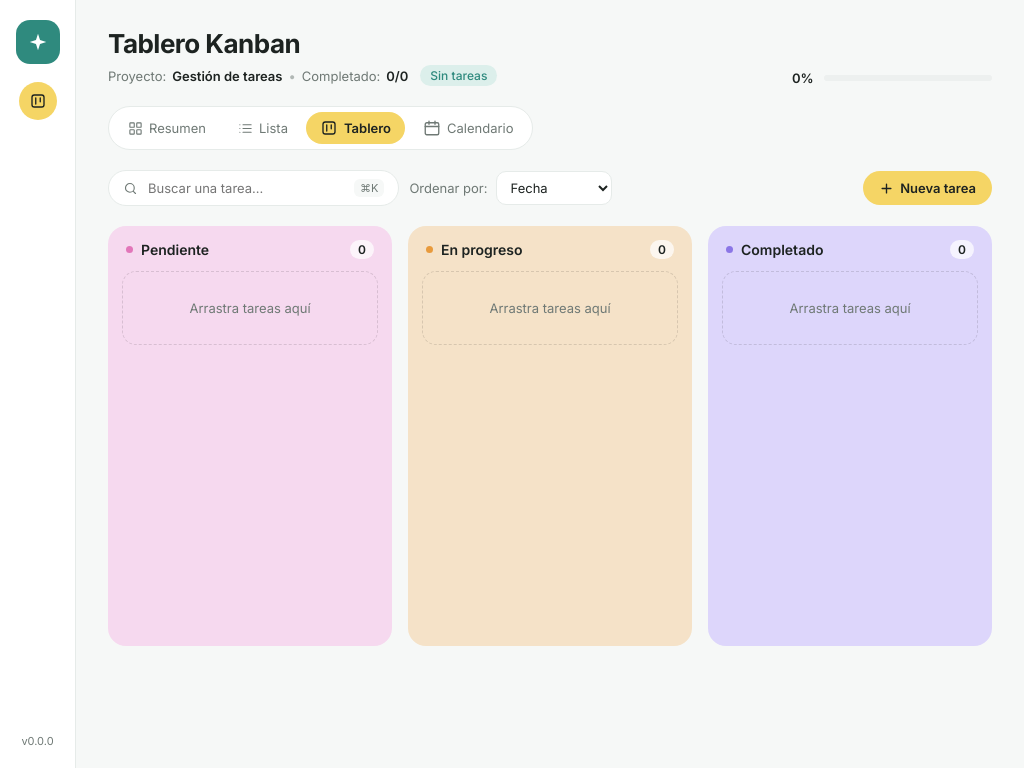
Test case: App Kanban › elimina una tarea
The image size is (1024, 768).
Click the button "Nueva tarea". click: (928, 188)
box: left=863, top=171, right=992, bottom=205
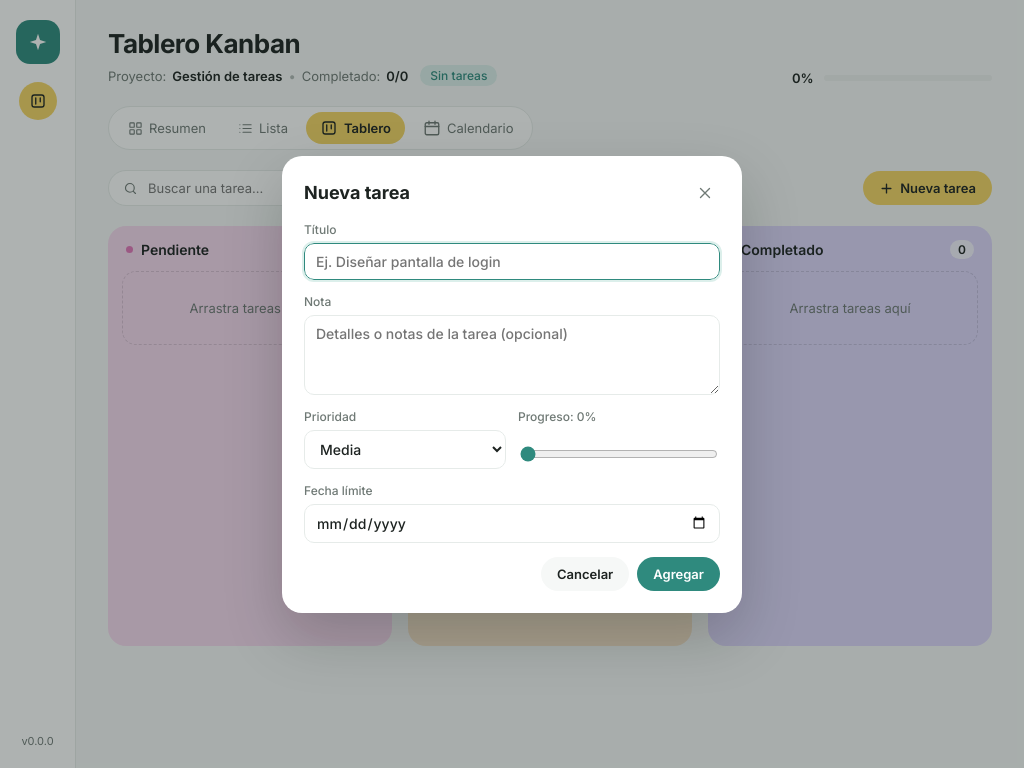
Type "Temporal" into the field labelled "Título". click: (512, 261)
box: left=304, top=242, right=720, bottom=280
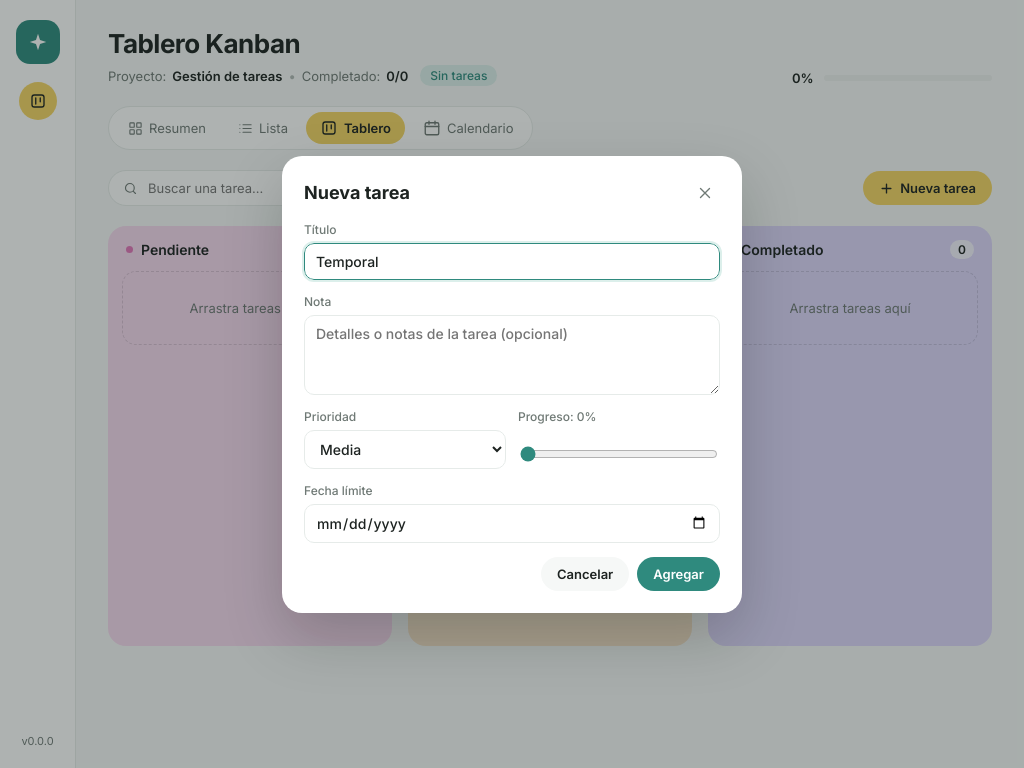
Click the button "Agregar". click: (679, 574)
box: left=637, top=556, right=720, bottom=590
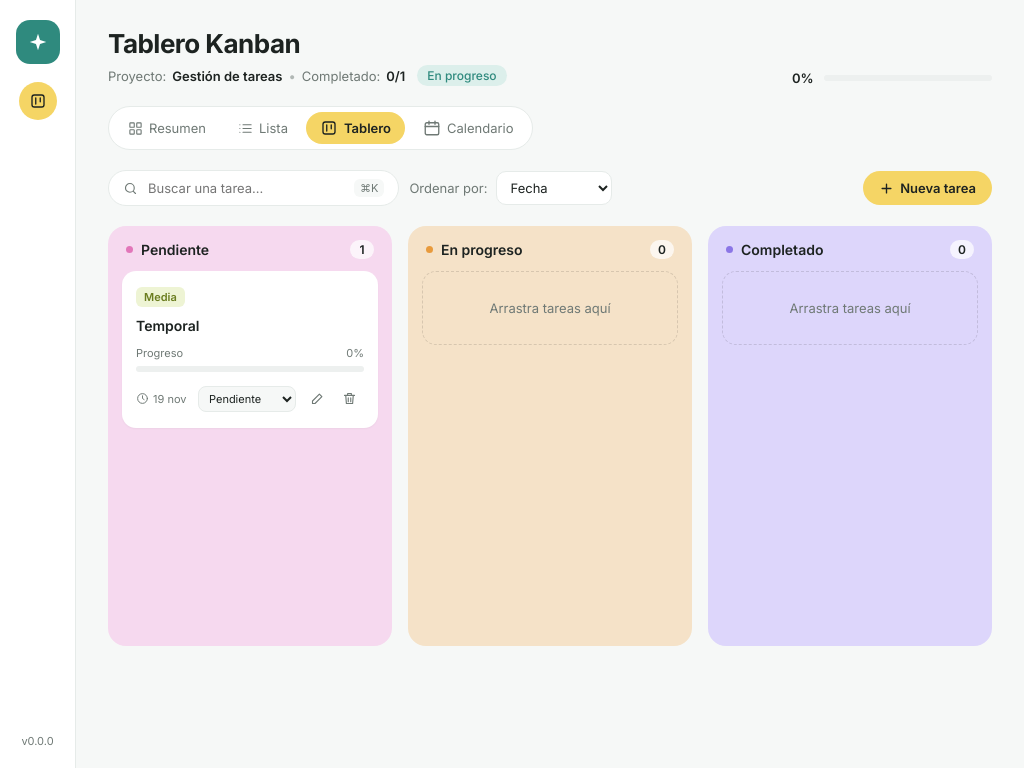
Click the button named "Eliminar". click: (349, 399)
box: left=334, top=384, right=364, bottom=414
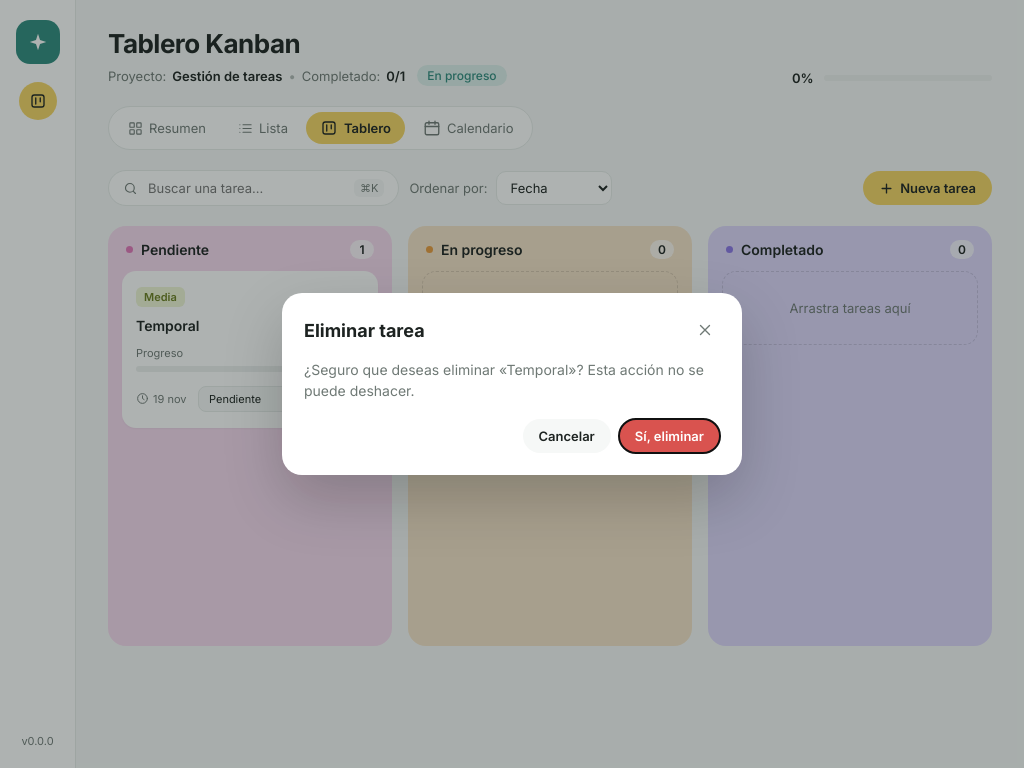
Click the button "Sí, eliminar". click: (669, 436)
box: left=619, top=419, right=720, bottom=453
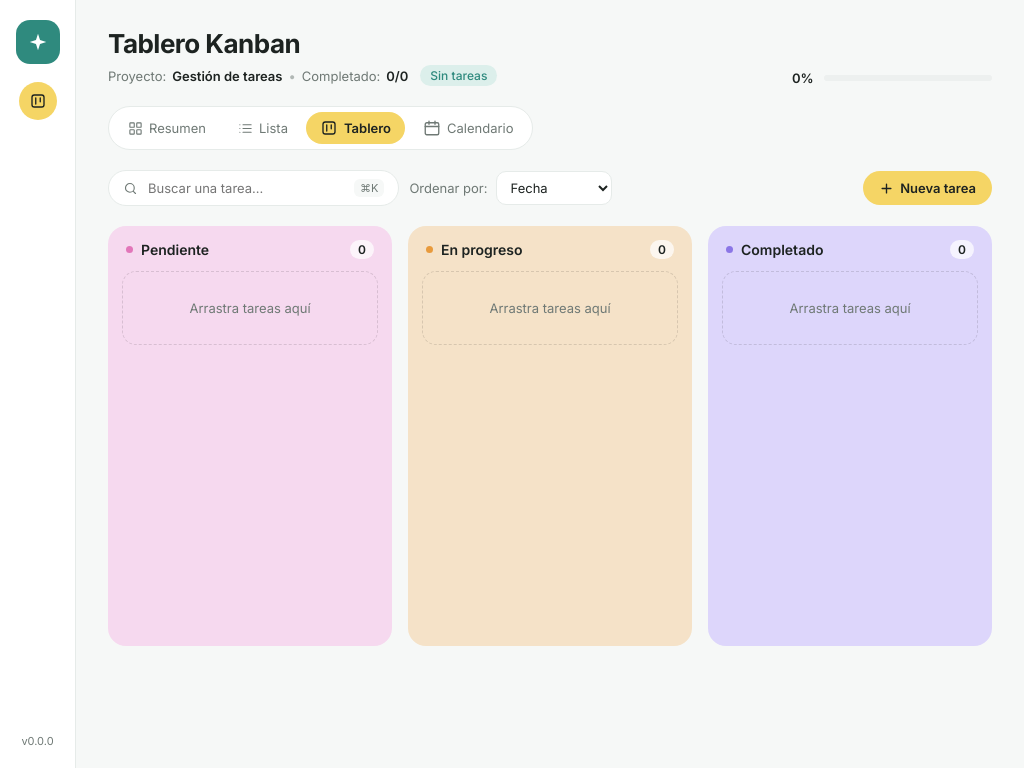
Expected: the heading "Temporal" is gone
